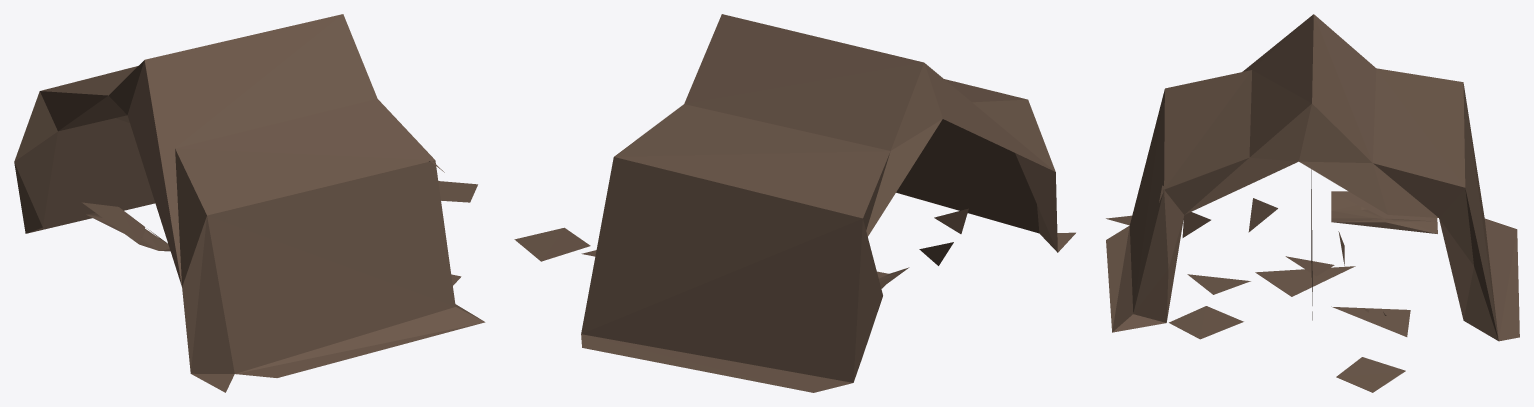
Rendered from camp-gear.lod2.glb.
The picture shows the model from 3 angles, left to right: view 1: azimuth 30°, elevation 25°; view 2: azimuth 150°, elevation 25°; view 3: azimuth 270°, elevation 25°; orthographic projection. The views are drawn at different scales.
Parts seen in each view (by area): view 1: Object_4; view 2: Object_4; view 3: Object_4.
Boxes of the visible parts, x1=… form: Object_4: x1=14, y1=14, x2=485, y2=392; Object_4: x1=514, y1=14, x2=1075, y2=392; Object_4: x1=1106, y1=14, x2=1519, y2=392.
Size of the model in its own units: 3.84 by 2.22 by 3.69.
